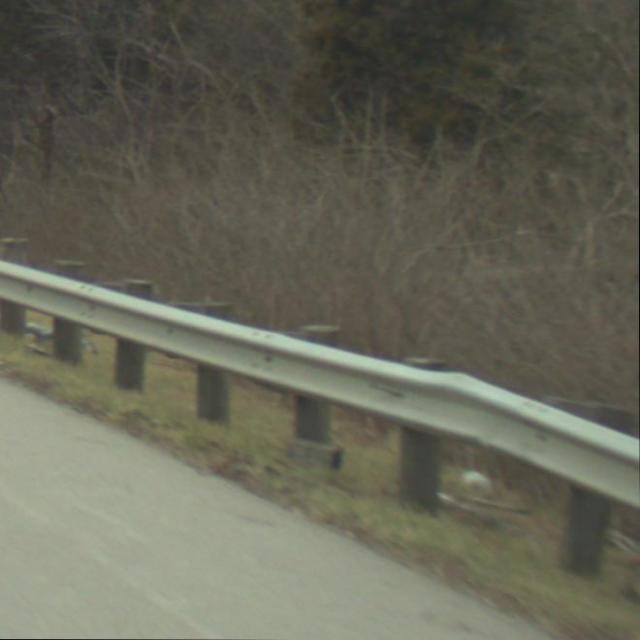Guard rail: (0, 236, 640, 601)
